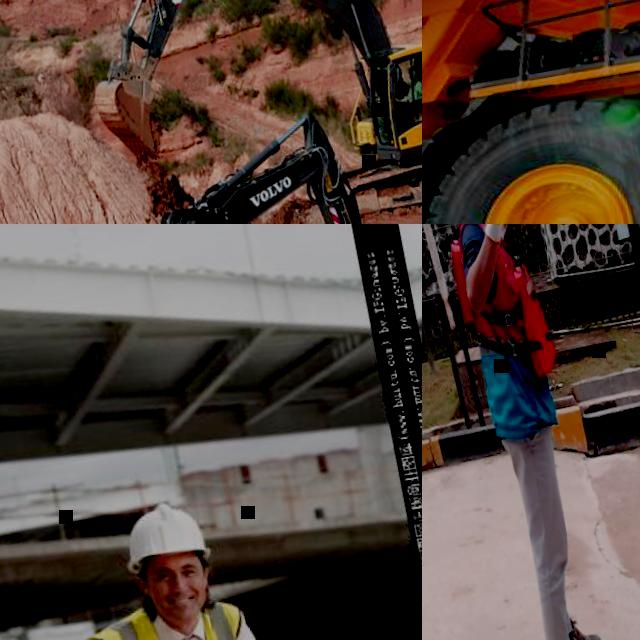helmet: (116, 494, 212, 574)
machinery: (57, 0, 422, 224), (0, 98, 422, 224), (422, 0, 640, 224)
no_helmet: (406, 64, 417, 76)
no_mask: (157, 586, 207, 626)
person: (422, 224, 608, 640), (44, 490, 281, 640), (388, 64, 422, 129)
vest: (443, 224, 562, 390), (75, 590, 258, 640), (404, 78, 422, 100)
